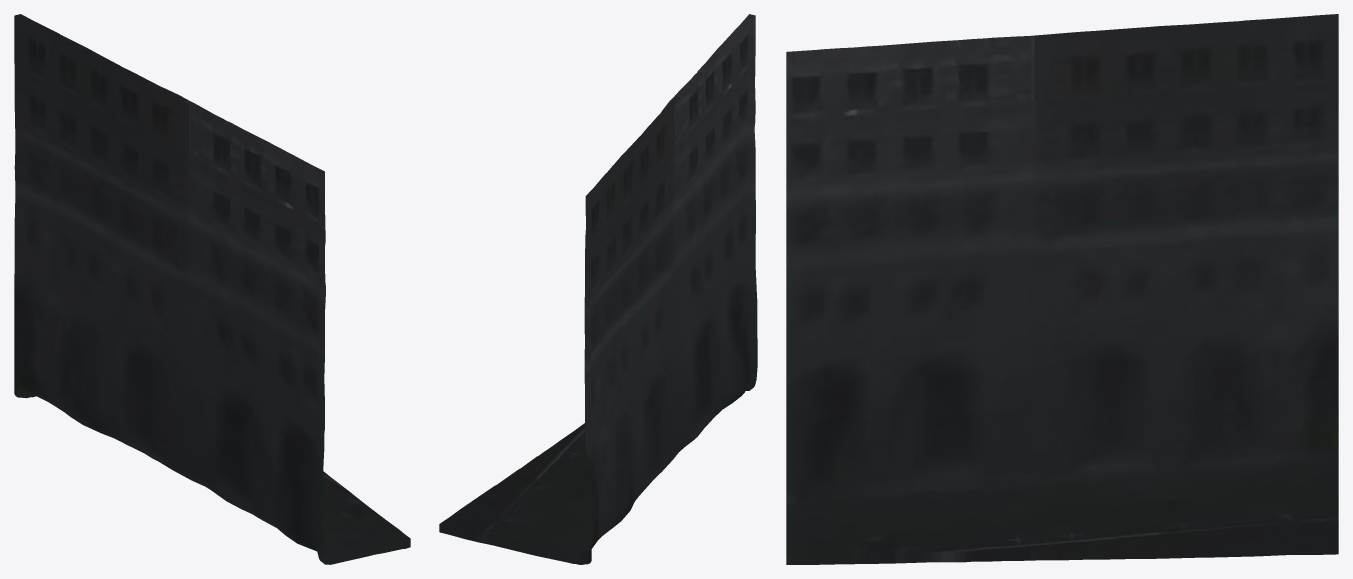
File: z20-167767-405237-h0-yup-uvflip-v3-world.glb
3 renders of one model, left to right at view 1: azimuth 30°, elevation 25°; view 2: azimuth 150°, elevation 25°; view 3: azimuth 270°, elevation 25°, orthographic. The views are drawn at different scales.
Bounding box in the file's own units: 11.72 × 27.96 × 30.32.
Materials: 1 (1 with a texture image).
